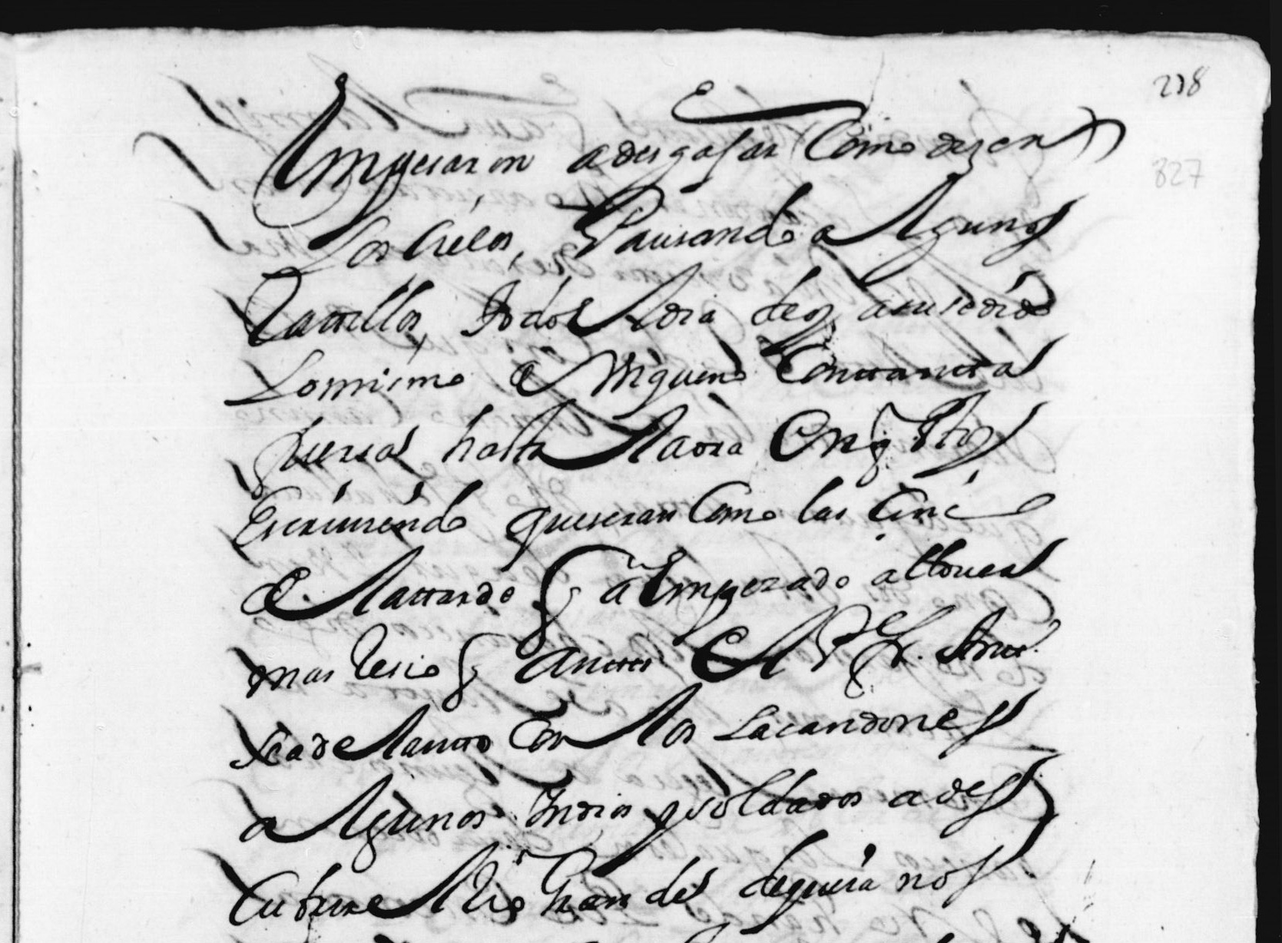lacandon: (713, 687, 1041, 759)
